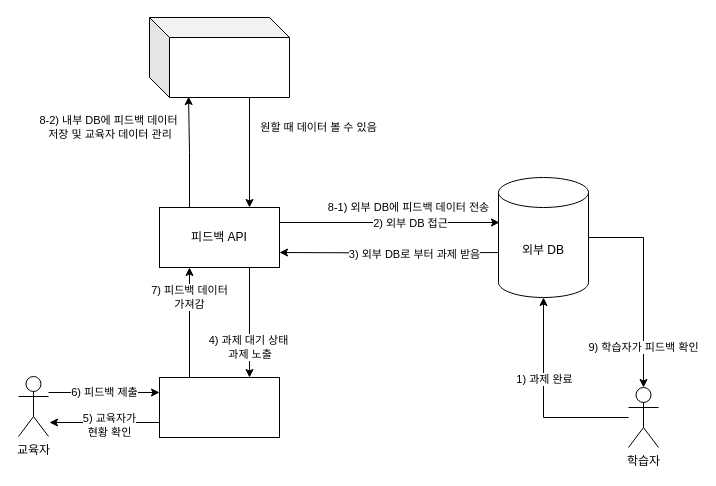
Image size: 716x486. Some labels were removed from this diagram. The centre of each missing label's shape, as x and y in pixels:
"내부 DB" belongs at (219,57).
"사하라이트" belongs at (219,407).
